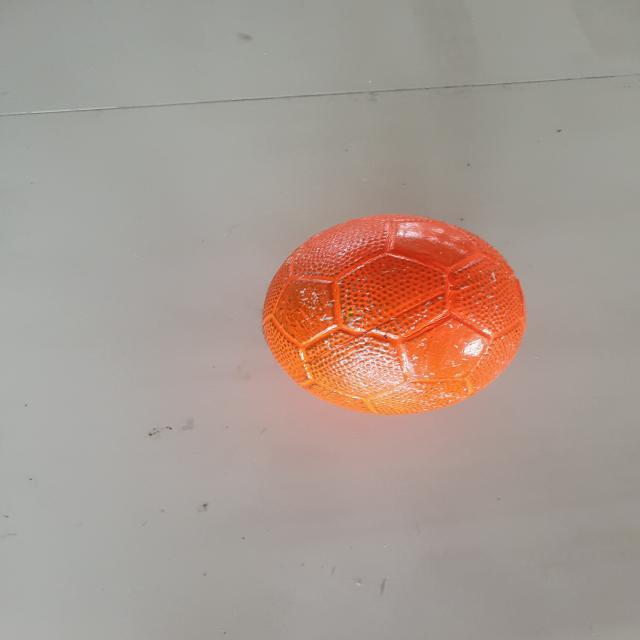bola: (259, 208, 534, 422)
